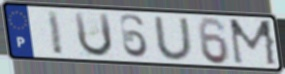6: (196, 15, 232, 67), (118, 13, 150, 62)
I: (45, 9, 66, 57)
M: (227, 17, 280, 68)
U: (72, 11, 115, 60), (151, 16, 196, 62)
